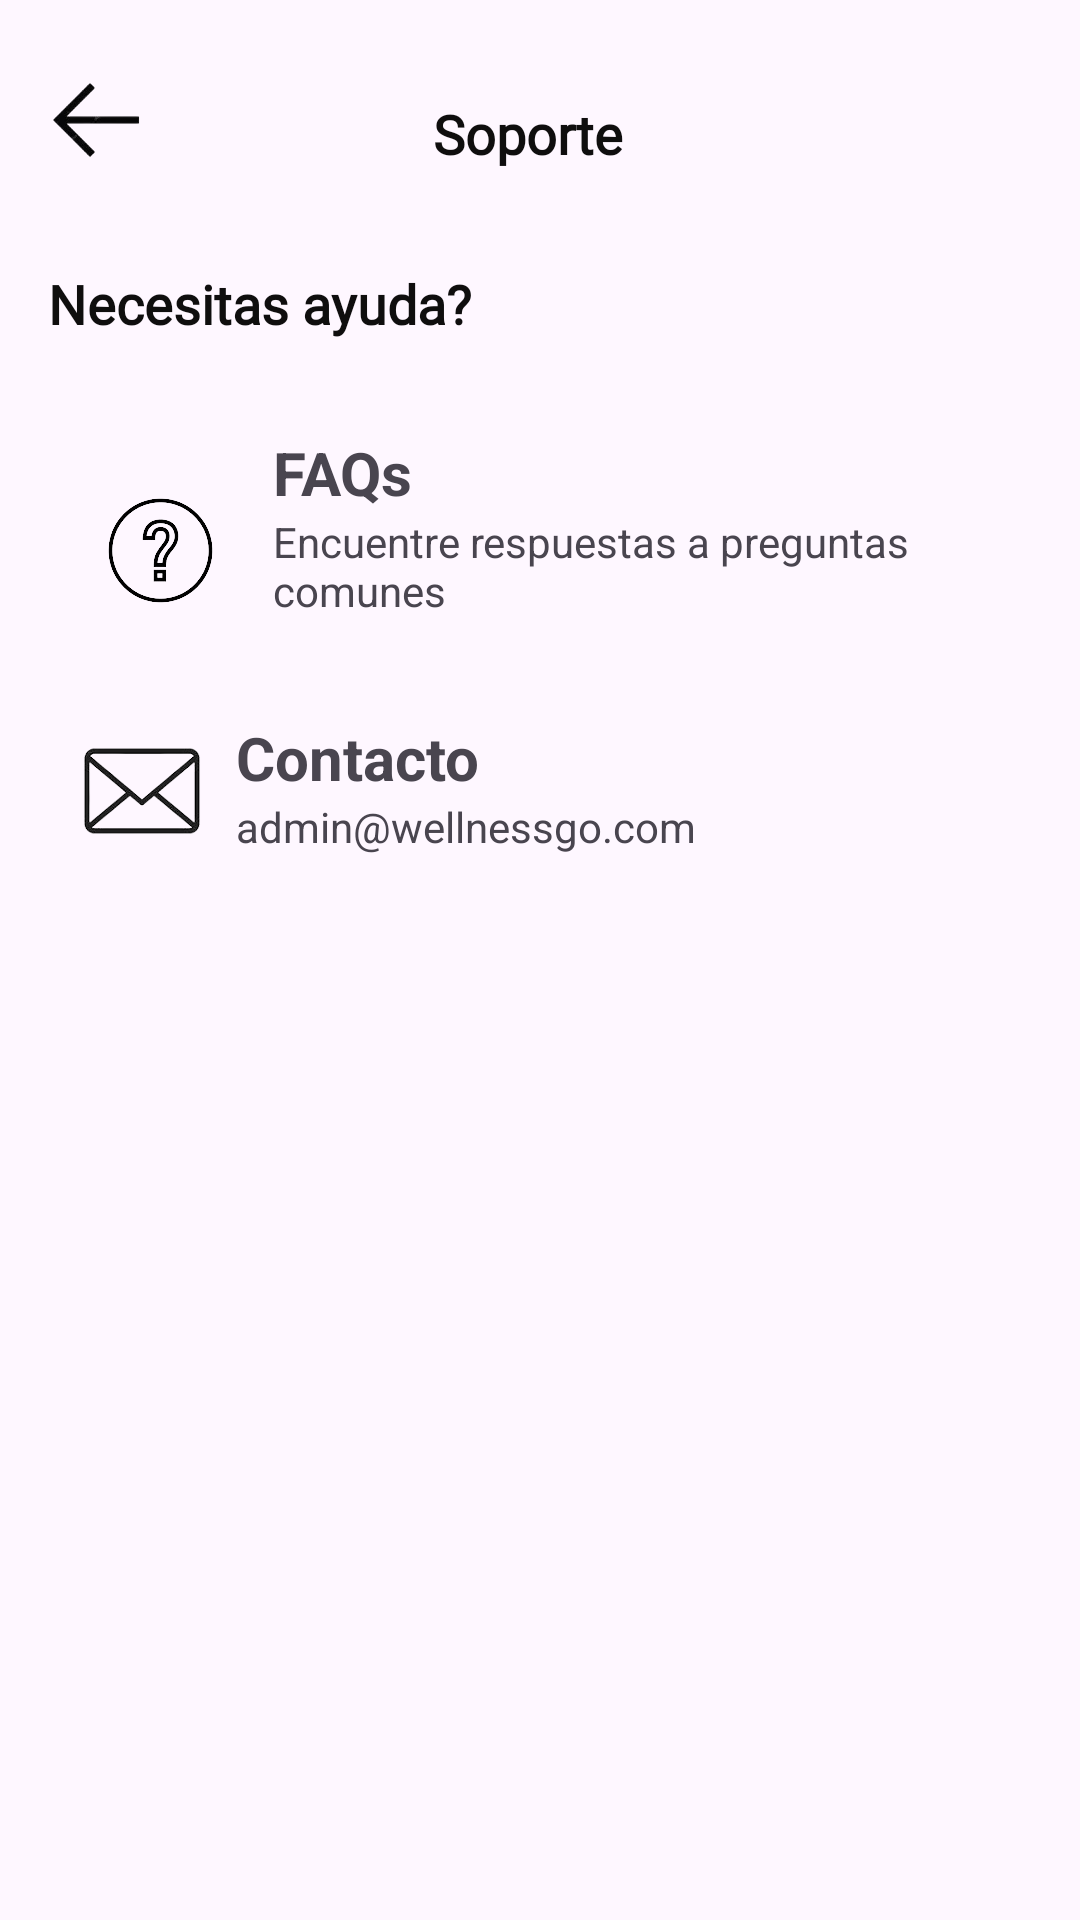

Icon bounding boxes for this 1080*1920 phone screenshot, format {"x1": x1, "y1": y1, "x2": x2, "y2": y2}:
Botón para regresar a la pantalla principal: {"x1": 53, "y1": 83, "x2": 139, "y2": 157}
emai: {"x1": 84, "y1": 748, "x2": 200, "y2": 834}
